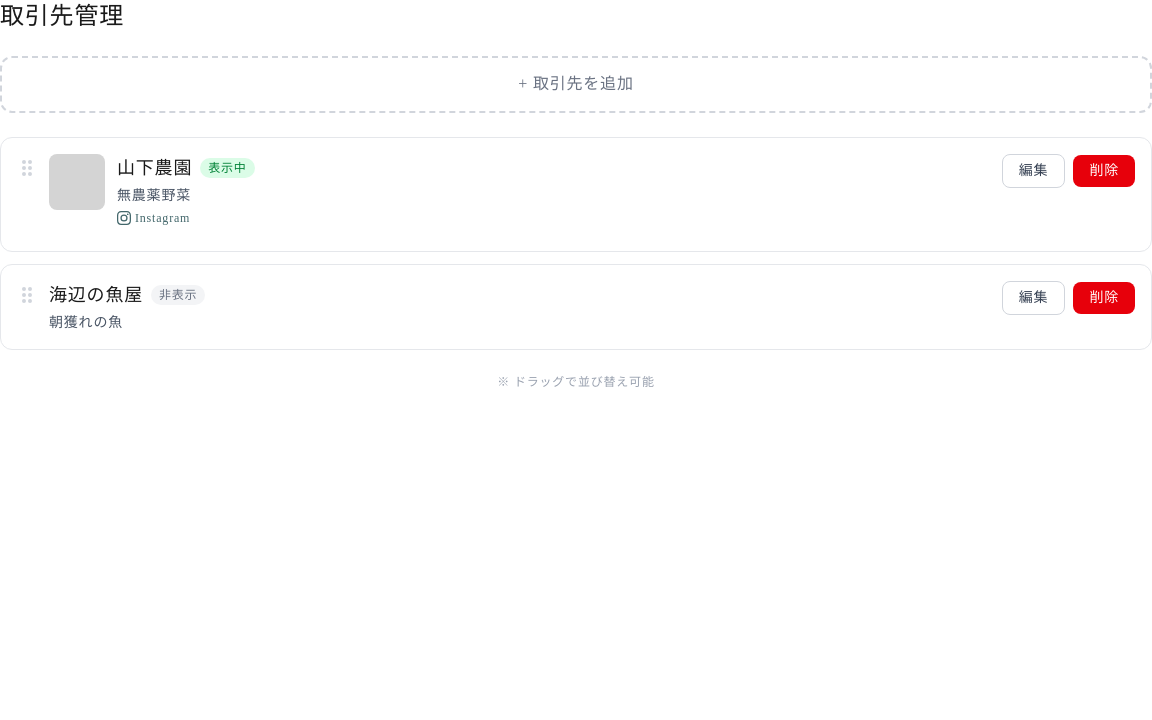
Test: SupplierManager › Instagram 以外の URL はエラーにする
Click the button "+ 取引先を追加" at (576, 84), box [0, 56, 1151, 113]
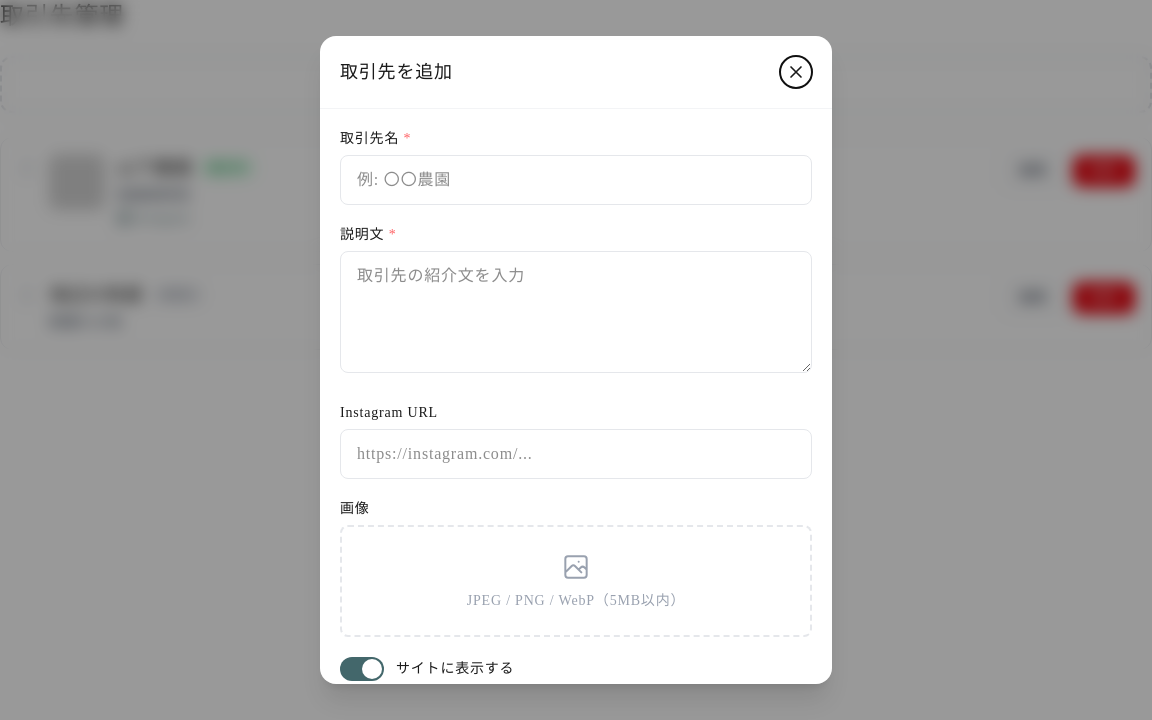
Type "新しい農園" into the field with placeholder "例: 〇〇農園" at (576, 180), box [340, 155, 812, 205]
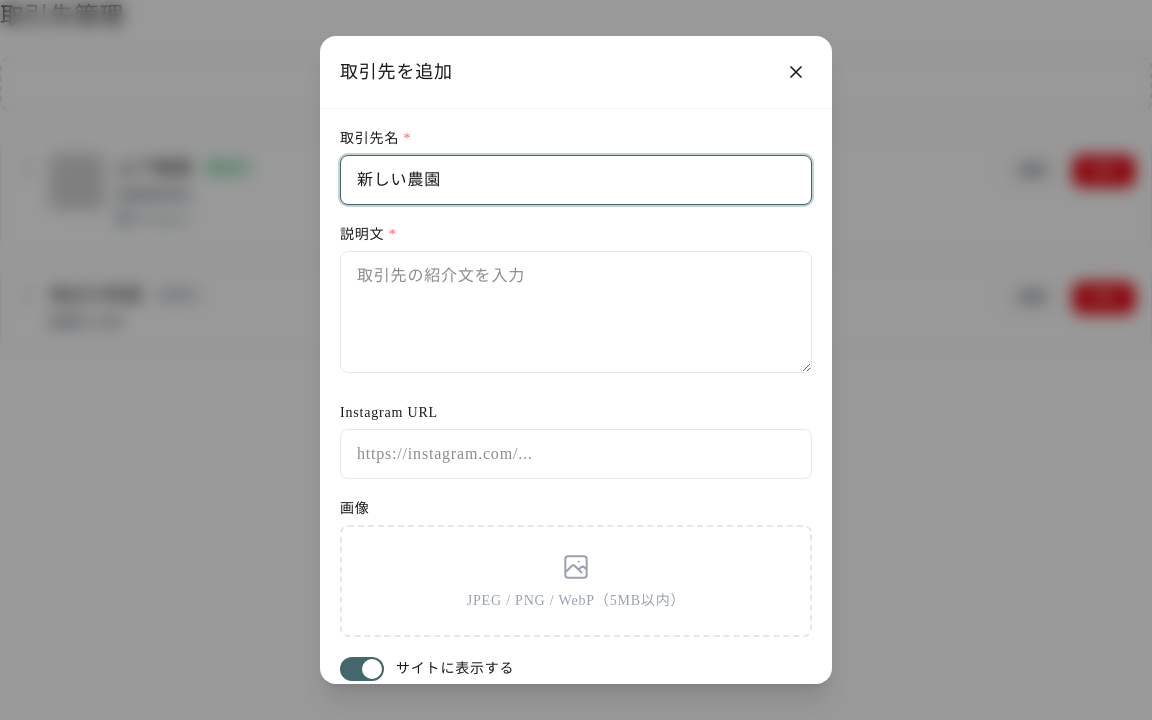
Type "説明" into the text box with placeholder "取引先の紹介文を入力" at (576, 312), box [340, 251, 812, 373]
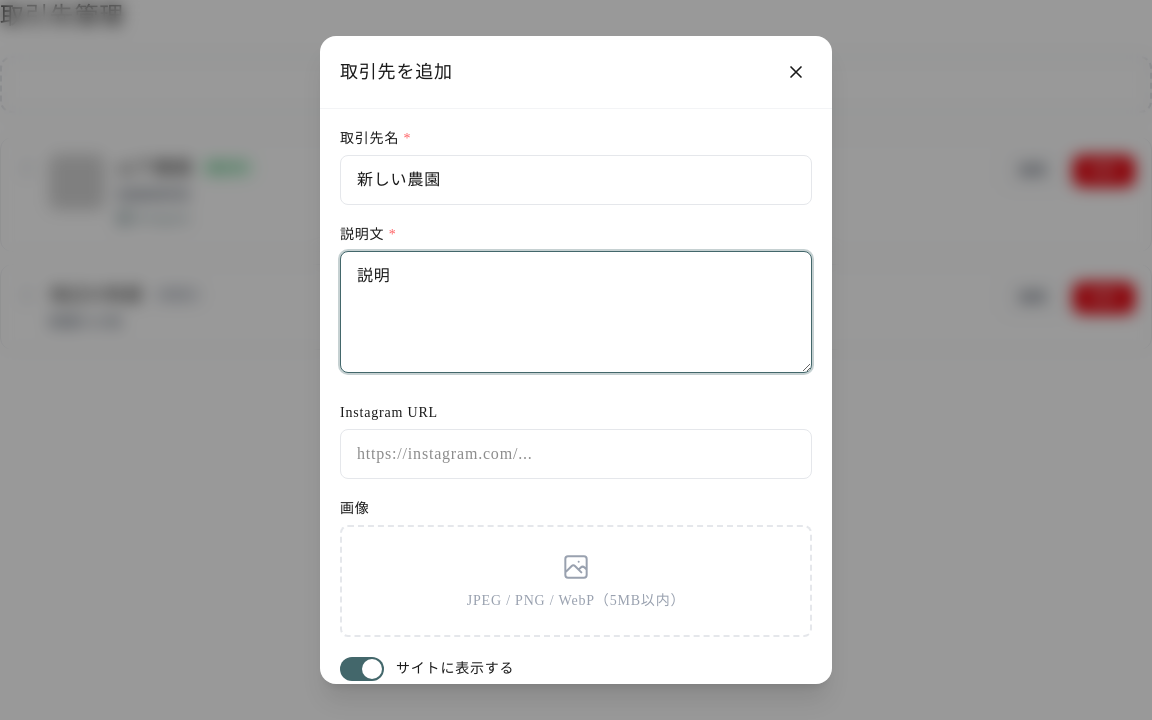
Type "https://example.com/x" into the field with placeholder "https://instagram.com/..." at (576, 454), box [340, 429, 812, 479]
(page scrolled)
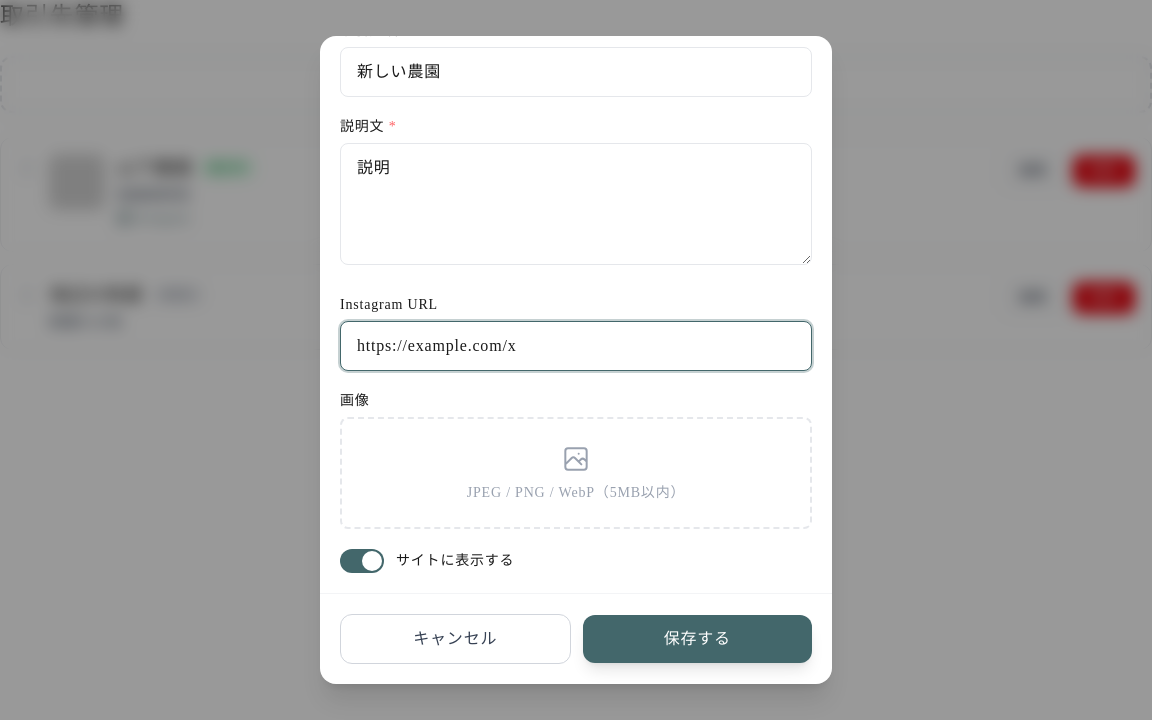
Click the button "保存する" at (697, 639), box [582, 615, 812, 663]
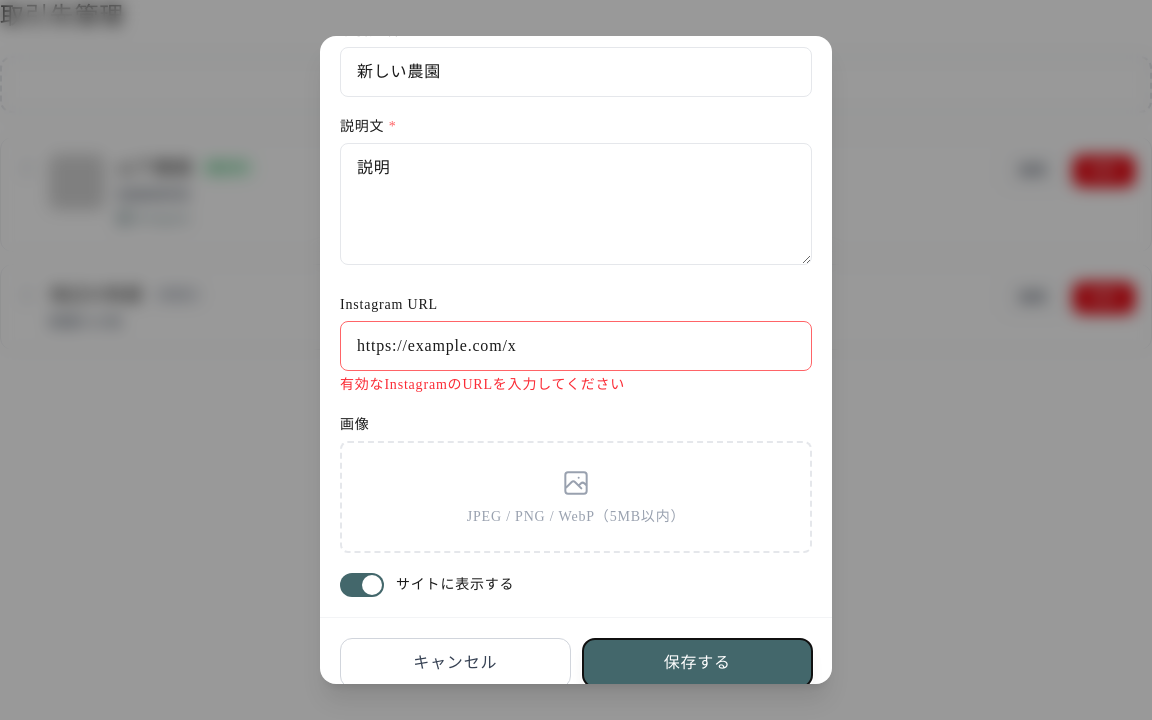
Expected: the text "有効なInstagramのURLを入力してください" is shown, [340, 377, 625, 392]
